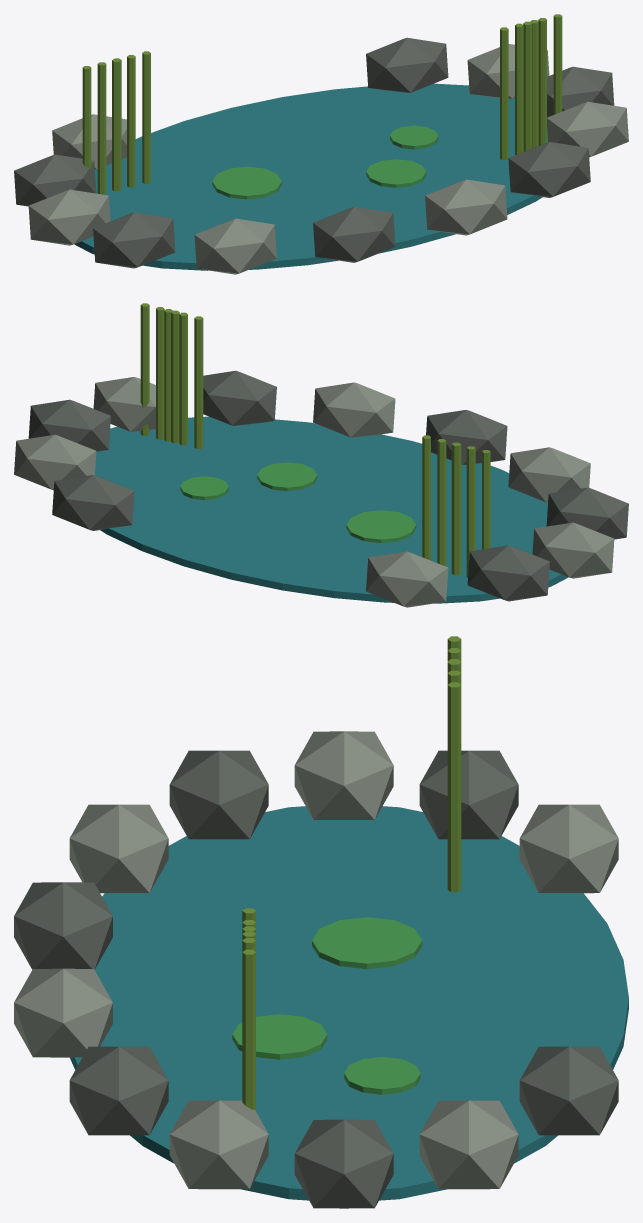
The model's file is SM_MistForestSmallPond_A.glb.
3 renders of one model, top to bottom at view 1: azimuth 30°, elevation 25°; view 2: azimuth 150°, elevation 25°; view 3: azimuth 270°, elevation 25°, orthographic. The views are drawn at different scales.
Parts seen in each view (by area): view 1: SM_MistForestSmallPond_A; view 2: SM_MistForestSmallPond_A; view 3: SM_MistForestSmallPond_A.
Part boxes in pixels (x1,y1,x2,y2): SM_MistForestSmallPond_A: [14, 14, 628, 274]; SM_MistForestSmallPond_A: [14, 303, 628, 607]; SM_MistForestSmallPond_A: [14, 636, 628, 1208].
Bounding box in the file's own units: 6.93 × 1.59 × 4.02.
